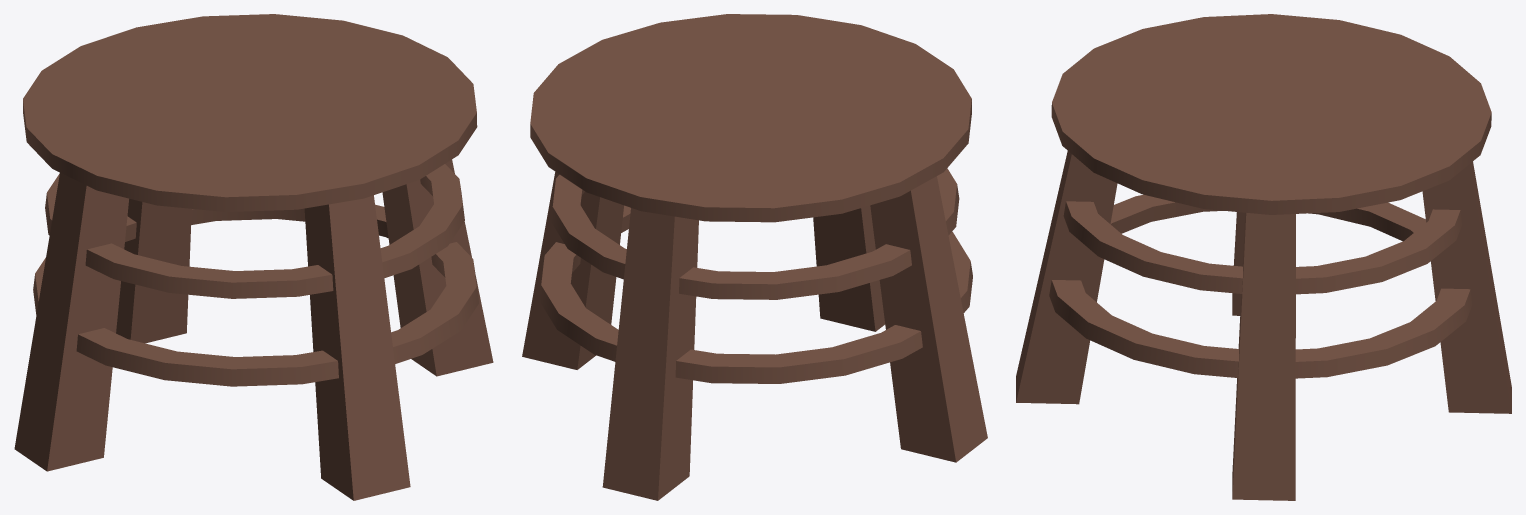
Rendered from stool01.gltf.
The picture shows the model from 3 angles, left to right: view 1: azimuth 30°, elevation 25°; view 2: azimuth 150°, elevation 25°; view 3: azimuth 270°, elevation 25°; orthographic projection. The views are drawn at different scales.
Parts seen in each view (by area): view 1: Stool_01(1); view 2: Stool_01(1); view 3: Stool_01(1).
Boxes of the visible parts, left/top/right/bottom form: Stool_01(1): left=14, top=14, right=493, bottom=500; Stool_01(1): left=522, top=14, right=987, bottom=500; Stool_01(1): left=1016, top=14, right=1511, bottom=500.
Size of the model in its own units: 0.5652 by 0.3727 by 0.5622.
